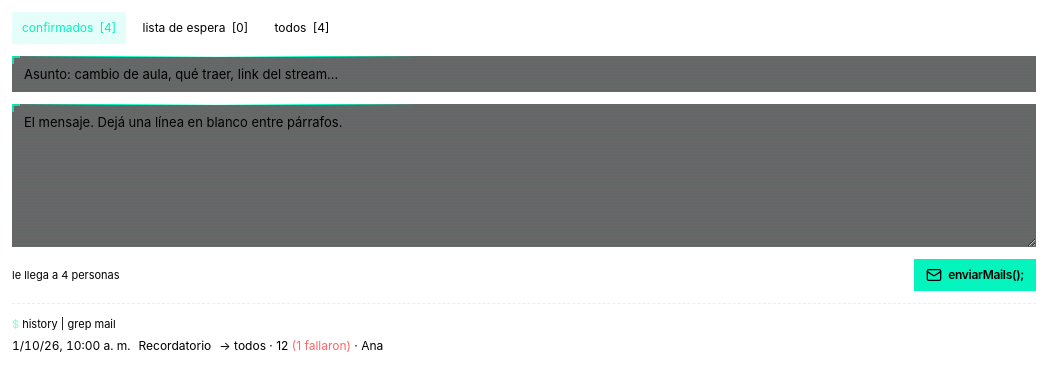
Test: EventBroadcastForm › says when a group is empty and lists past sends
The image size is (1048, 371).
Step 1. Click the radio button labelled "lista de espera [0]" → (196, 28), box [132,12,259,44]
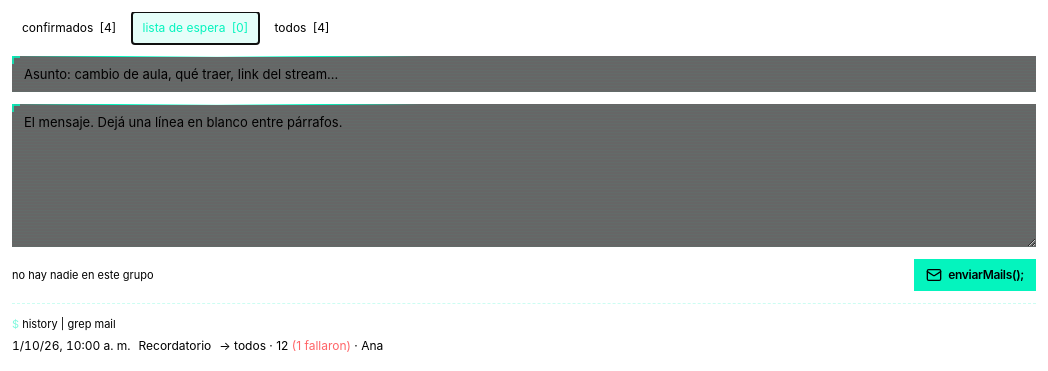
Expected: the text "Recordatorio" is shown, [138,338,211,354]
Result: the text "no hay nadie en este grupo" is shown at [12,266,154,283]
